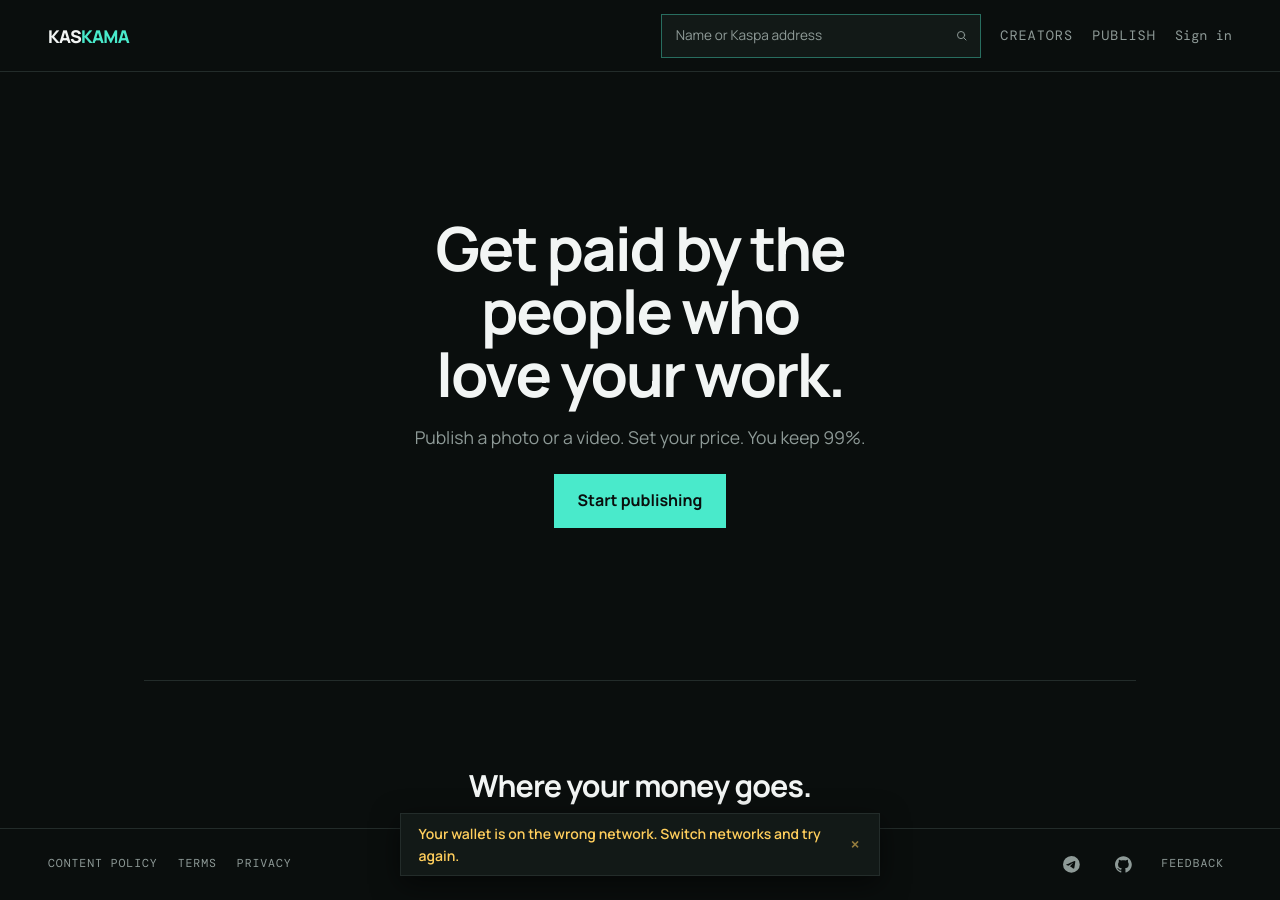
Test: session and wallet reconciliation › finishes sign-in when the wallet re-announces the network mid-flight
Click the button with aria-label "Sign in with Kasware" at (1203, 36), box [1175,25,1232,46]
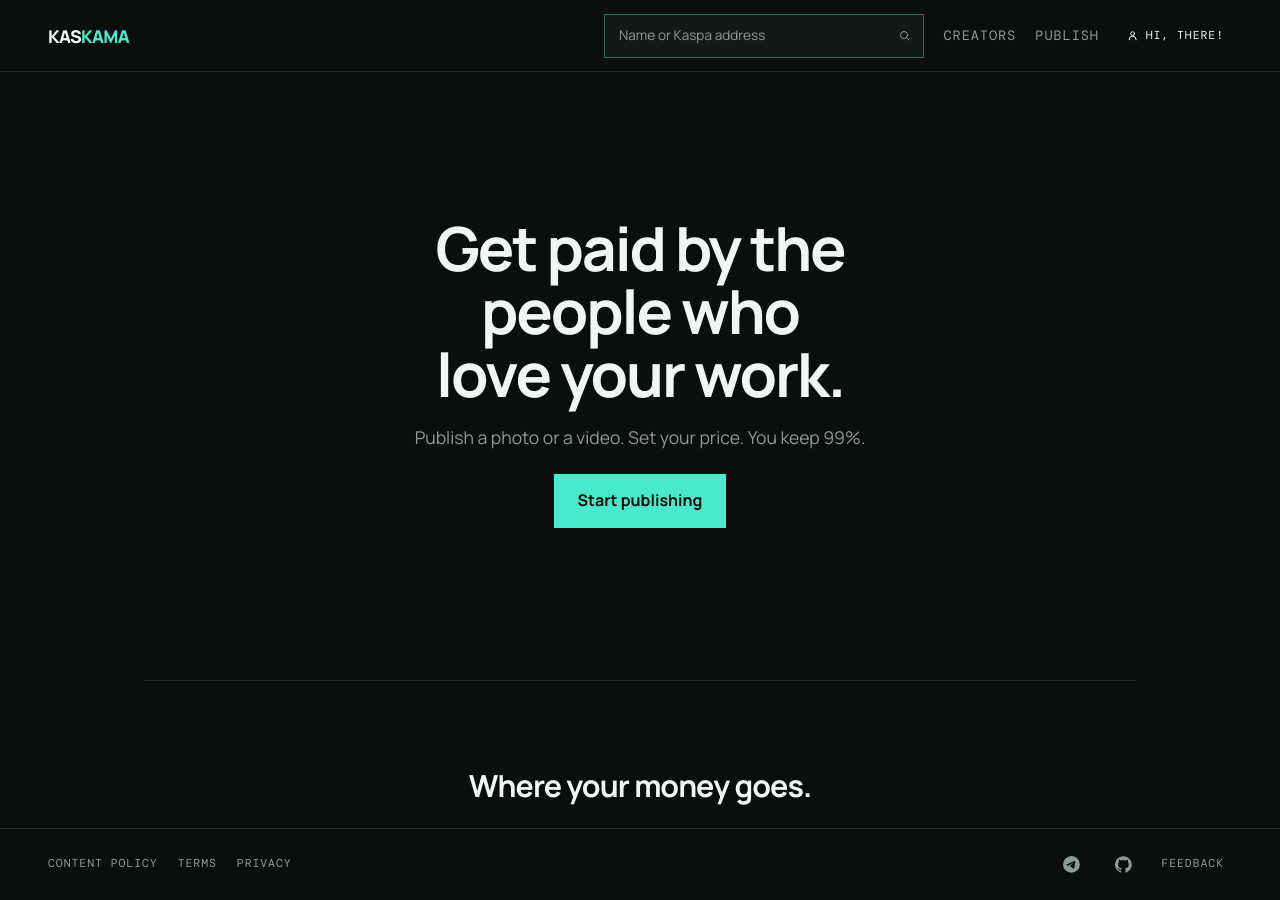
Result: the heading "Hi, there!" is shown at [1126,28,1224,43]
